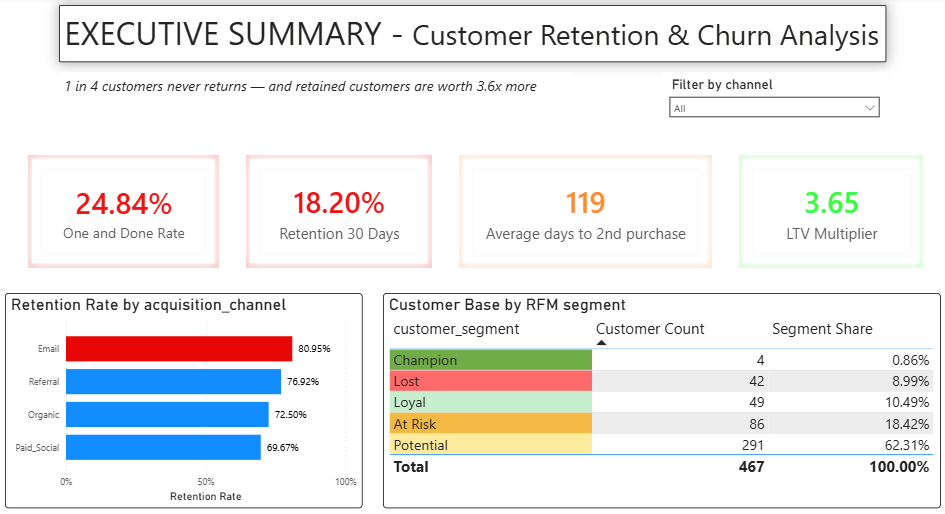

This screenshot's page, from the dashboard's own definition file:
{"tool":"powerbi","page":{"name":"Executive summary","canvas":[1280,720],"ordinal":0},"visuals":[{"type":"textbox","box":[86.6,10.5,1099.4,76.2],"z":0},{"type":"cardVisual","fields":{"Data":["fact_customer_orderss.One and Done Rate"]},"box":[45.4,210,253.6,149.5],"z":1000},{"type":"cardVisual","fields":{"Data":["fact_customer_orderss.Retention 30 days"]},"box":[334.8,210,246.9,149.5],"z":2000},{"type":"cardVisual","fields":{"Data":["fact_customer_orderss.Average days to 2nd purchase"]},"box":[617.6,210,336,149.5],"z":3000},{"type":"cardVisual","fields":{"Data":["fact_customer_orderss.LTV Multiplier"]},"box":[989.4,210,245.2,149.5],"z":4000},{"type":"textbox","box":[87.3,99.1,682,48.7],"z":5000},{"type":"clusteredBarChart","fields":{"Category":["fact_customer_orders.acquisition_channel"],"Y":["fact_customer_orders.Retention Rate"]},"box":[15.1,393.1,475.4,285.6],"z":6000},{"type":"tableEx","title":"Customer Base by RFM segment","fields":{"Values":["rfm_segments.customer_segment","rfm_segments.Customer Count","rfm_segments.Segment Share"]},"box":[517.4,393.1,740.8,285.6],"z":7000},{"type":"slicer","fields":{"Values":["dim_customers.acquisition_channel"]},"box":[886.9,99.1,299,79],"z":8000}]}

Visuals, with their boxes on the page's 1280x720 design canvas (x1, y1, x2, y2). These are canvas units, not pixel positions in the 945x514 screenshot, which may show the page scaled, cropped or inside an application window:
textbox: left=87, top=10, right=1186, bottom=87
cardVisual - fact_customer_orderss.One and Done Rate: left=45, top=210, right=299, bottom=360
cardVisual - fact_customer_orderss.Retention 30 days: left=335, top=210, right=582, bottom=360
cardVisual - fact_customer_orderss.Average days to 2nd purchase: left=618, top=210, right=954, bottom=360
cardVisual - fact_customer_orderss.LTV Multiplier: left=989, top=210, right=1235, bottom=360
textbox: left=87, top=99, right=769, bottom=148
clusteredBarChart - fact_customer_orders.acquisition_channel x fact_customer_orders.Retention Rate: left=15, top=393, right=490, bottom=679
"Customer Base by RFM segment" tableEx: left=517, top=393, right=1258, bottom=679
slicer - dim_customers.acquisition_channel: left=887, top=99, right=1186, bottom=178
